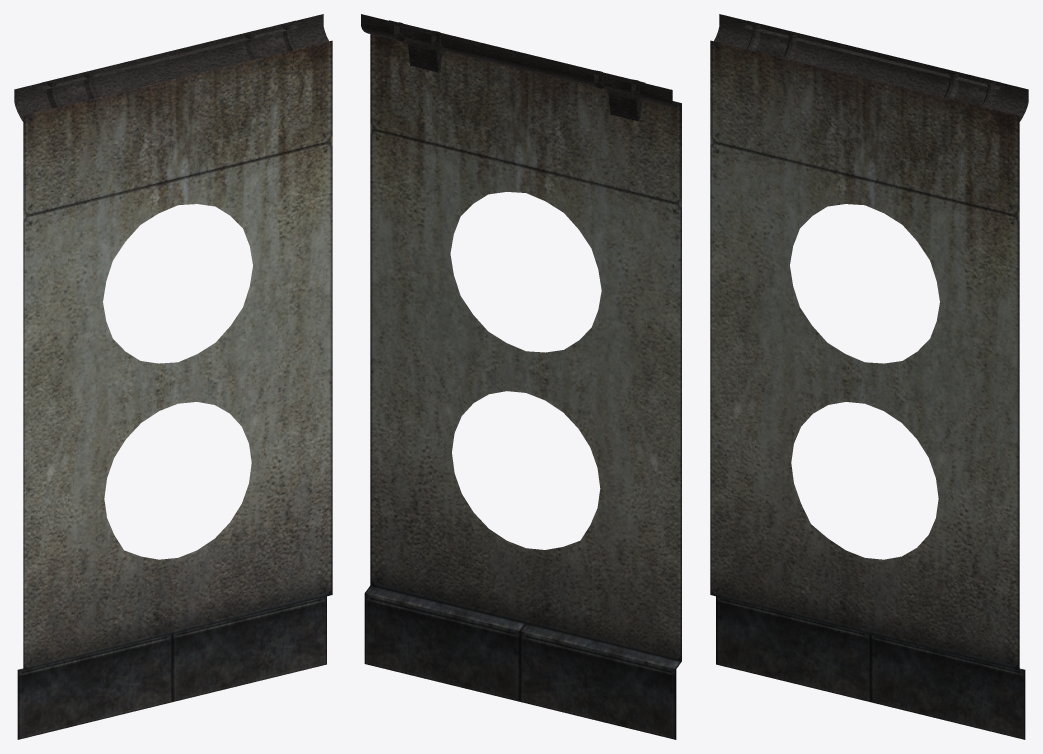
Rendered from lab_flat_short_fan_inset_rusty.dae.
3 views of the same model, side by side, from view 1: azimuth 30°, elevation 25°; view 2: azimuth 150°, elevation 25°; view 3: azimuth 330°, elevation 25° (orthographic).
Visible parts, largest first — view 1: lab_flat_vent_inset; view 2: lab_flat_vent_inset; view 3: lab_flat_vent_inset.
Boxes of the visible parts, x1,y1,x2,y2 form: lab_flat_vent_inset: [14, 14, 332, 739]; lab_flat_vent_inset: [361, 14, 681, 739]; lab_flat_vent_inset: [710, 14, 1028, 739].
Size of the model in its own units: 2 by 4 by 0.1056.
